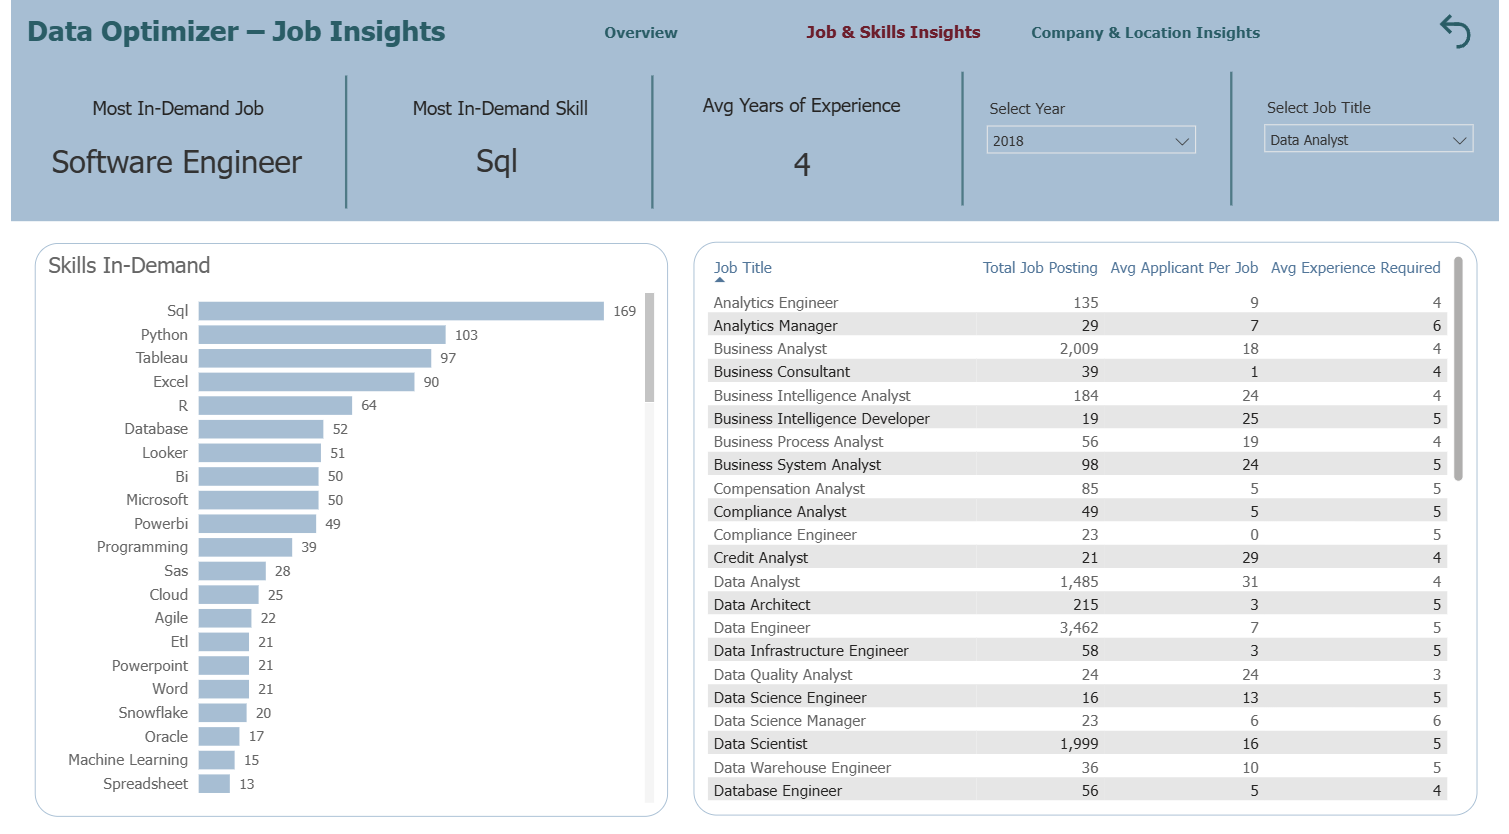

Layout of this report page (visuals, bound fields, positions):
{"tool":"powerbi","page":{"name":"Job & Skills Insights","canvas":[1280,720],"ordinal":1},"visuals":[{"type":"shape","box":[0,0,1280,192],"z":0},{"type":"shape","box":[9.4,66.4,265,118.2],"z":0,"group":"g4"},{"type":"shape","box":[301.3,66.7,236.6,118],"z":0,"group":"g2"},{"type":"shape","box":[564.9,66.8,231.6,118.2],"z":0,"group":"g3"},{"type":"textbox","box":[8.6,8.6,392.5,51.4],"z":1000},{"type":"textbox","box":[577,77.7,207.5,31.4],"z":1000,"group":"g3"},{"type":"textbox","box":[23.4,79.2,240.1,30.2],"z":1000,"group":"g4"},{"type":"textbox","box":[317,80,207.5,31.4],"z":1000,"group":"g2"},{"type":"slicer","fields":{"Values":["DimDate.Year"]},"box":[828.8,82,200.3,54.3],"z":2000},{"type":"card","fields":{"Values":["_measure.Most Posted Job Title"]},"box":[20.5,115.1,245,51.9],"z":2000,"group":"g4"},{"type":"card","fields":{"Values":["_measure.Top Job Skill"]},"box":[308.3,115.3,219.6,50.7],"z":2000,"group":"g2"},{"type":"card","fields":{"Values":["_measure.Avg Experience Required"]},"box":[570.9,118.7,219.6,50.7],"z":2000,"group":"g3"},{"type":"group","id":"g1","title":"Group 1","box":[9.4,66.4,265,118.2],"z":3000},{"type":"shape","box":[807.1,63.6,22,115],"z":4000},{"type":"shape","box":[1038.2,63.6,22,115],"z":6000},{"type":"slicer","fields":{"Values":["JobPosting.Job Title"]},"box":[1067.7,80.8,200.3,54.3],"z":7000},{"type":"group","id":"g2","title":"Group 2","box":[301.3,66.7,236.6,118],"z":9000},{"type":"group","id":"g3","title":"Group 2","box":[564.9,66.8,231.6,118.2],"z":10000},{"type":"shape","box":[277.5,66.4,21.7,114.6],"z":11000},{"type":"group","id":"g4","title":"Group 2","box":[9.4,66.4,265,118.2],"z":11001,"group":"g1"},{"type":"shape","box":[540.5,66.4,21.7,114.6],"z":12000},{"type":"clusteredBarChart","title":"Skills In-Demand","fields":{"Category":["FactJobSkills.Job Skills"],"Y":["_measure.Job Count Per Skill"]},"box":[19.9,210.5,544.7,493.5],"z":13000},{"type":"tableEx","fields":{"Values":["JobPosting.Job Title","_measure.Total Job Posting","_measure.Avg Applicant Per Job","_measure.Avg Experience Required"]},"box":[587.5,209.9,674.4,493.4],"z":14000},{"type":"pageNavigator","box":[439.1,15.7,641.8,25.3],"z":15000},{"type":"actionButton","box":[1222.1,8.4,45.8,39.8],"z":16000}]}

Visuals, with their boxes in screenshot pixels (x1, y1, x2, y2), scaled from the page's 1280x720 canvas onto the 1509x834 screenshot:
shape: select_region(0, 0, 1508, 222)
shape: select_region(11, 77, 323, 214)
shape: select_region(355, 77, 634, 214)
shape: select_region(666, 77, 939, 214)
textbox: select_region(10, 10, 473, 70)
textbox: select_region(680, 90, 925, 126)
textbox: select_region(28, 92, 311, 127)
textbox: select_region(374, 93, 618, 129)
slicer - DimDate.Year: select_region(977, 95, 1213, 158)
card - _measure.Most Posted Job Title: select_region(24, 133, 313, 193)
card - _measure.Top Job Skill: select_region(363, 134, 622, 192)
card - _measure.Avg Experience Required: select_region(673, 137, 932, 196)
"Group 1" group: select_region(11, 77, 323, 214)
shape: select_region(951, 74, 977, 207)
shape: select_region(1224, 74, 1250, 207)
slicer - JobPosting.Job Title: select_region(1259, 94, 1495, 156)
"Group 2" group: select_region(355, 77, 634, 214)
"Group 2" group: select_region(666, 77, 939, 214)
shape: select_region(327, 77, 353, 210)
"Group 2" group: select_region(11, 77, 323, 214)
shape: select_region(637, 77, 663, 210)
"Skills In-Demand" clusteredBarChart: select_region(23, 244, 666, 815)
tableEx - JobPosting.Job Title x _measure.Total Job Posting: select_region(693, 243, 1488, 815)
pageNavigator: select_region(518, 18, 1274, 47)
actionButton: select_region(1441, 10, 1495, 56)
